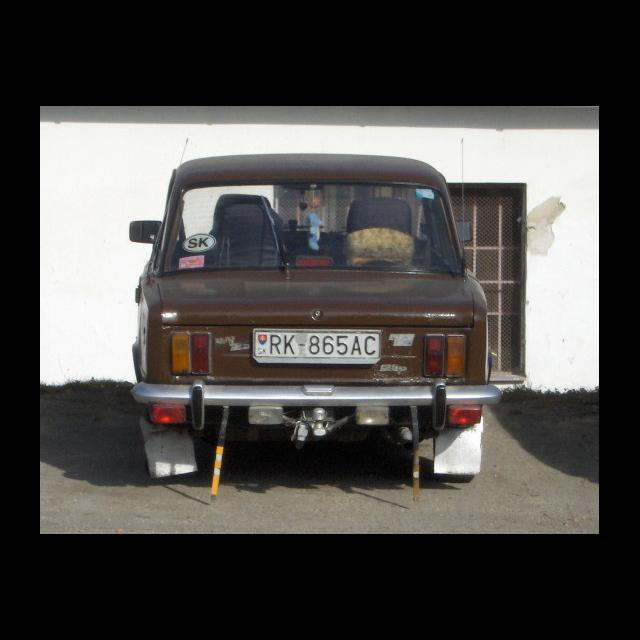Plate: (250, 326, 382, 364)
